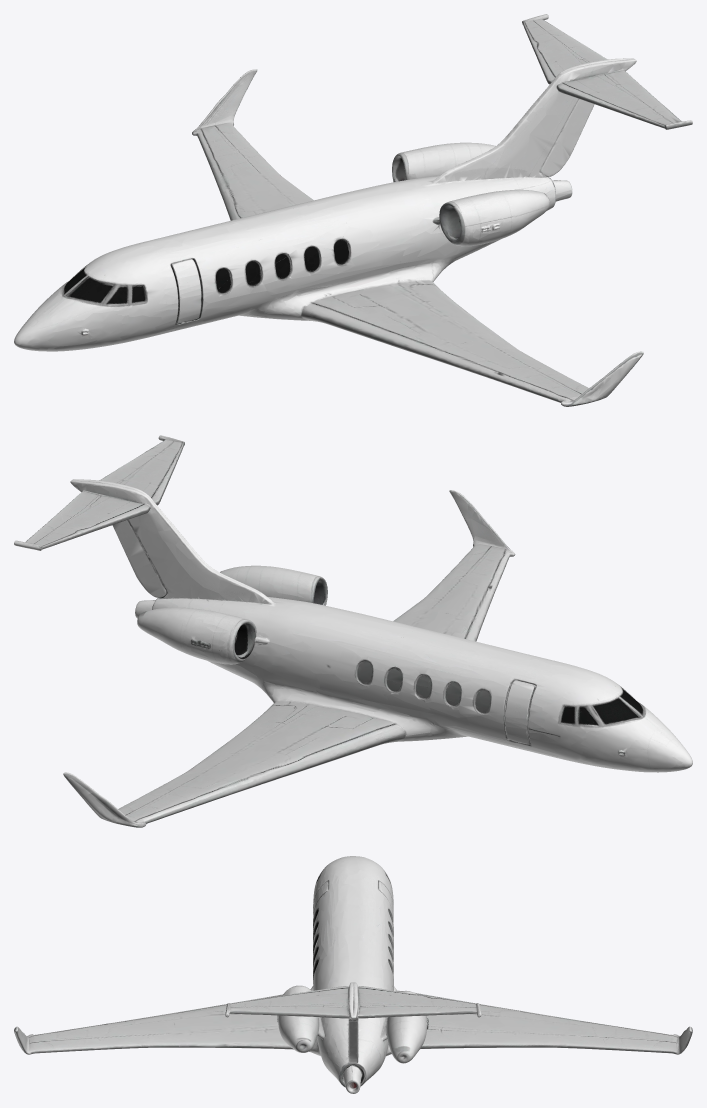
3 renders of one model, top to bottom at view 1: azimuth 30°, elevation 25°; view 2: azimuth 150°, elevation 25°; view 3: azimuth 270°, elevation 25°, orthographic. The views are drawn at different scales.
Bounding box in the file's own units: 1.75 × 0.4661 × 1.9.
Materials: 1 (1 with a texture image).
